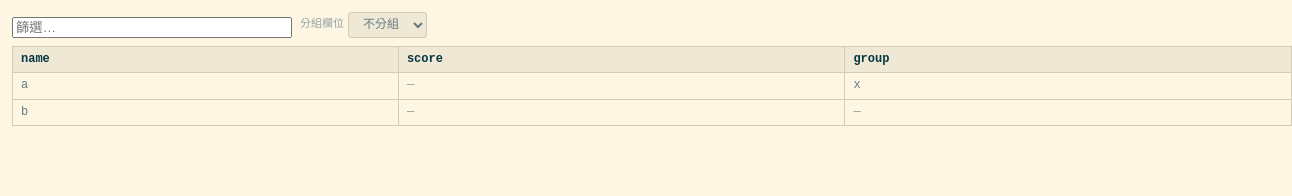
Test: DataTable 分組 › labels rows whose group value is missing rather than dropping them
Step 1. Select "group" in the dropdown labelled "分組欄位" → [388, 25], box x1=348 y1=12 x2=427 y2=38
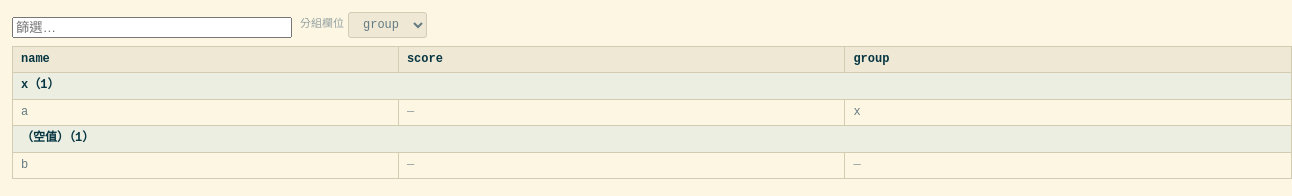
Expected: the column heading with class "group-row" reads "（空值）（1）", x1=21 y1=131 x2=94 y2=145
